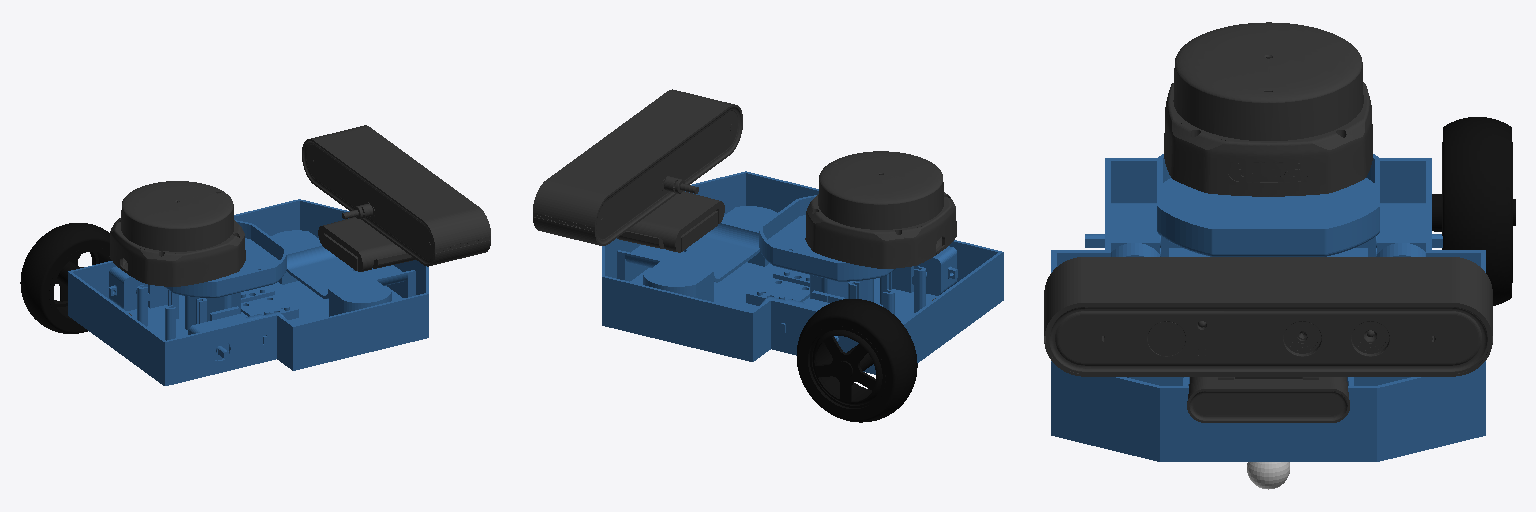
robot.urdf — lidarino:
<?xml version="1.0" ?>
<!-- =================================================================================== -->
<!-- |    This document was autogenerated by xacro from .\lidarino_isaac.urdf.xacro    | -->
<!-- |    EDITING THIS FILE BY HAND IS NOT RECOMMENDED                                 | -->
<!-- =================================================================================== -->
<robot name="lidarino">
  <material name="black">
    <color rgba="0.1 0.1 0.1 1.0"/>
  </material>
  <material name="dark_grey">
    <color rgba="0.25 0.25 0.25 1.0"/>
  </material>
  <material name="matte_orange">
    <color rgba="0.85 0.45 0.15 1.0"/>
  </material>
  <material name="muted_red">
    <color rgba="0.75 0.22 0.17 1.0"/>
  </material>
  <material name="steel_blue">
    <color rgba="0.25 0.45 0.65 1.0"/>
  </material>
  <material name="silver">
    <color rgba="0.75 0.75 0.75 1.0"/>
  </material>
  <link name="base_link">
    <inertial>
      <origin rpy="0.0 0.0 0.0" xyz="-0.0062724127968771535 1.3799035175597654e-08 0.013070827636125267"/>
      <mass value="0.4239314641509377"/>
      <inertia ixx="0.0010482842137546186" ixy="-9.417101996162051e-05" ixz="0.0001129151524043299" iyy="0.0024338106744802982" iyz="-2.234993490616969e-06" izz="0.003184067568059869"/>
    </inertial>
    <visual name="base_link_visual">
      <origin rpy="0.0 0.0 0.0" xyz="0.0 0.0 0.0"/>
      <geometry>
        <mesh filename="package://lidarino_description/urdf/meshes/base_link_s2.stl" scale="0.001 0.001 0.001"/>
      </geometry>
      <material name="steel_blue"/>
    </visual>
    <collision name="base_link_collision">
      <origin rpy="0.0 0.0 0.0" xyz="0.0 0.0 0.021"/>
      <geometry>
        <box size="0.25 0.16 0.042"/>
      </geometry>
    </collision>
  </link>
  <link name="body_lid">
    <inertial>
      <origin rpy="0.0 0.0 0.0" xyz="-0.012951394456098867 -3.147938388524642e-07 0.06881041966340294"/>
      <mass value="0.05261379951215123"/>
      <inertia ixx="0.0001489352862801382" ixy="3.80132469862603e-10" ixz="-6.825968075725163e-07" iyy="0.000229958819591738" iyz="3.2124298873716476e-11" izz="0.00037746798651689653"/>
    </inertial>
    <visual name="body_lid_visual">
      <origin rpy="0.0 0.0 0.0" xyz="0.0 0.0 -0.07"/>
      <geometry>
        <mesh filename="package://lidarino_description/urdf/meshes/bodyLid.stl" scale="0.001 0.001 0.001"/>
      </geometry>
      <material name="steel_blue"/>
    </visual>
    <collision name="body_lid_collision">
      <origin rpy="0.0 0.0 0.0" xyz="-0.024 0.0 -0.005"/>
      <geometry>
        <box size="0.206 0.164 0.014"/>
      </geometry>
    </collision>
  </link>
  <link name="caster">
    <inertial>
      <origin rpy="0.0 0.0 0.0" xyz="0.0 0.0 0.0"/>
      <mass value="0.01"/>
      <inertia ixx="1e-4" ixy="0" ixz="0" iyy="1e-4" iyz="0" izz="1e-4"/>
    </inertial>
    <visual name="caster_visual">
      <origin rpy="0.0 0.0 0.0" xyz="0.0 0.0 0.0"/>
      <geometry>
        <sphere radius="0.008"/>
      </geometry>
      <material name="silver"/>
    </visual>
    <collision name="caster_collision">
      <origin rpy="0.0 0.0 0.0" xyz="0.0 0.0 0.0"/>
      <geometry>
        <sphere radius="0.008"/>
      </geometry>
    </collision>
  </link>
  <link name="wheel_R">
    <inertial>
      <origin rpy="0.0 -0.0 0.0" xyz="3.8589283501977436e-08 3.3503422258718277e-13 -0.017044397508191807"/>
      <mass value="0.0493089812577897"/>
      <inertia ixx="2.1725366580018456e-05" ixy="5.925842498991085e-17" ixz="1.2860682814920879e-11" iyy="2.172573834724608e-05" iyz="1.1233689759665433e-16" izz="3.791921679166611e-05"/>
    </inertial>
    <visual name="wheel_R_visual">
      <origin rpy="-4.72621546065603e-16 -1.1102230246251568e-16 -2.7755575615628926e-17" xyz="1.1368683772161603e-15 1.3322676295501878e-17 0.0"/>
      <geometry>
        <mesh filename="package://lidarino_description/urdf/meshes/wheel_R.stl" scale="0.001 0.001 0.001"/>
      </geometry>
      <material name="black"/>
    </visual>
    <collision name="wheel_R_collision">
      <origin rpy="0 0 0" xyz="0 0 -0.017"/>
      <geometry>
        <cylinder length="0.025" radius="0.035"/>
      </geometry>
    </collision>
  </link>
  <link name="wheel_L">
    <inertial>
      <origin rpy="0.0 -0.0 0.0" xyz="3.8589283501977436e-08 3.3503422258718277e-13 -0.017044397508191828"/>
      <mass value="0.0493089812577897"/>
      <inertia ixx="2.17253665800184e-05" ixy="5.927197751706692e-17" ixz="1.2860682842025933e-11" iyy="2.1725738347246244e-05" iyz="1.1234367386023236e-16" izz="3.7919216791666135e-05"/>
    </inertial>
    <visual name="wheel_L_visual">
      <origin rpy="-1.4649353258190343e-16 -1.2470396389907355e-32 -5.551115123125783e-17" xyz="1.1368683772161603e-15 1.1102230246251566e-17 0.0"/>
      <geometry>
        <mesh filename="package://lidarino_description/urdf/meshes/wheel_L.stl" scale="0.001 0.001 0.001"/>
      </geometry>
      <material name="black"/>
    </visual>
    <collision name="wheel_L_collision">
      <origin rpy="0 0 0" xyz="0 0 -0.017"/>
      <geometry>
        <cylinder length="0.025" radius="0.035"/>
      </geometry>
    </collision>
  </link>
  <joint name="L_wheel_Revolute" type="continuous">
    <origin rpy="1.5707963267948966 -0.0 0.0" xyz="-0.085 0.06 0.015"/>
    <parent link="base_link"/>
    <child link="wheel_L"/>
    <axis xyz="0.0 0.0 -1.0"/>
    <limit effort="10.0" velocity="20.0"/>
    <dynamics damping="10000000.0" friction="0.1"/>
  </joint>
  <joint name="R_wheel_Revolute" type="continuous">
    <origin rpy="-1.5707963267948966 -0.0 0.0" xyz="-0.085 -0.06 0.015"/>
    <parent link="base_link"/>
    <child link="wheel_R"/>
    <axis xyz="0.0 0.0 1.0"/>
    <limit effort="10.0" velocity="20.0"/>
    <dynamics damping="10000000.0" friction="0.1"/>
  </joint>
  <joint name="caster_fixed" type="fixed">
    <origin rpy="0.0 0.0 0.0" xyz="0.077 0.0 -0.013"/>
    <parent link="base_link"/>
    <child link="caster"/>
  </joint>
  <joint name="body_lid_fixed" type="fixed">
    <origin rpy="0.0 0.0 0.0" xyz="0.0 0.0 0.07"/>
    <parent link="base_link"/>
    <child link="body_lid"/>
  </joint>
  <!-- Attrito zero per la caster -->
  <gazebo reference="caster_link">
    <mu1>0.0</mu1>
    <mu2>0.0</mu2>
  </gazebo>
  <!-- Attrito alto per le ruote -->
  <gazebo reference="left_wheel_link">
    <mu1>1.0</mu1>
    <mu2>1.0</mu2>
  </gazebo>
  <gazebo reference="right_wheel_link">
    <mu1>1.0</mu1>
    <mu2>1.0</mu2>
  </gazebo>
  <link name="astra_link">
    <inertial>
      <origin rpy="0.0 0.0 0.0" xyz="0.021745856967737336 3.8230579211581216e-05 0.029303333814809707"/>
      <mass value="0.23334756462839484"/>
      <inertia ixx="0.00045538823905664865" ixy="1.841447020567419e-07" ixz="9.205395041665818e-06" iyy="7.785663760045297e-05" iyz="-4.2054876695014596e-08" izz="0.00045460807011731756"/>
    </inertial>
    <visual name="astracamera_visual">
      <origin rpy="0.0 0.0 0.0" xyz="0.0 0.0 0.0"/>
      <geometry>
        <mesh filename="package://lidarino_description/urdf/meshes/astracamera.stl" scale="0.001 0.001 0.001"/>
      </geometry>
      <material name="dark_grey"/>
    </visual>
    <collision name="astracamera_collision">
      <origin rpy="0.0 0.0 0.0" xyz="0.02 0.0 0.035"/>
      <geometry>
        <box size="0.04 0.15 0.03"/>
        <!-- <mesh filename="${mesh_url}astracamera.stl" scale="0.001 0.001 0.001" /> -->
      </geometry>
    </collision>
  </link>
  <joint name="astra_joint" type="fixed">
    <parent link="base_link"/>
    <child link="astra_link"/>
    <origin rpy="0 0 3.141592653589793" xyz="0.120 0.0 0.025"/>
  </joint>
  <link name="astra_optical_frame"/>
  <joint name="astra_optical_joint" type="fixed">
    <parent link="astra_link"/>
    <child link="astra_optical_frame"/>
    <origin rpy="0 0 3.141592653589793" xyz="0 0 0.032"/>
  </joint>
  <link name="rplidars2_link">
    <inertial>
      <origin rpy="0.0 0.0 0.0" xyz="-4.876953214253547e-05 6.129273590973731e-06 0.015121950727028356"/>
      <mass value="0.2610121235316497"/>
      <inertia ixx="0.00018781372994948866" ixy="1.2883857858081062e-08" ixz="4.40529556879255e-07" iyy="0.0001855239755116742" iyz="-2.488761129977374e-09" izz="0.0002891065425456664"/>
    </inertial>
    <visual name="lidar_visual">
      <origin rpy="0.0 0.0 0.0" xyz="0.0 0.0 0.0"/>
      <geometry>
        <mesh filename="package://lidarino_description/urdf/meshes/RPLIDARS2.stl" scale="0.001 0.001 0.001"/>
      </geometry>
      <material name="dark_grey"/>
    </visual>
    <collision name="lidar_collision">
      <origin rpy="0.0 0.0 0.0" xyz="0.0 0.0 0.03"/>
      <geometry>
        <cylinder length="0.02" radius="0.035"/>
        <!-- <mesh filename="${mesh_url}RPLIDARS2.stl" scale="0.001 0.001 0.001" /> -->
      </geometry>
    </collision>
  </link>
  <joint name="rplidars2_joint" type="fixed">
    <parent link="base_link"/>
    <child link="rplidars2_link"/>
    <origin rpy="0 0 0" xyz="-0.056 0.0 0.053"/>
  </joint>
  <link name="rplidars2_laser_link"/>
  <joint name="rplidars2_laser_joint" type="fixed">
    <parent link="rplidars2_link"/>
    <child link="rplidars2_laser_link"/>
    <origin rpy="0.0 0.0 0.0" xyz="0.0 0.0 0.03"/>
  </joint>
  <link name="imu_link">
    <inertial>
      <!-- IMU reale tipica: pochi grammi, trascurabile dal punto di vista
                     inerziale ma serve comunque un inertial valido per KDL/ros2_control -->
      <origin rpy="0 0 0" xyz="0 0 0"/>
      <mass value="0.01"/>
      <inertia ixx="1e-4" ixy="0.0" ixz="0.0" iyy="1e-4" iyz="0.0" izz="1e-4"/>
    </inertial>
    <visual name="imu_visual">
      <origin rpy="0 0 0" xyz="0 0 0"/>
      <geometry>
        <box size="0.005 0.005 0.005"/>
      </geometry>
      <material name="dark_grey"/>
    </visual>
    <collision name="imu_collision">
      <origin rpy="0 0 0" xyz="0 0 0"/>
      <geometry>
        <box size="0.005 0.005 0.005"/>
      </geometry>
    </collision>
  </link>
  <joint name="imu_joint" type="fixed">
    <parent link="base_link"/>
    <child link="imu_link"/>
    <origin rpy="0 0 0" xyz="-0.092 0.0 0.02"/>
  </joint>
  <!-- 
         =========================================================
         ESCLUSI APPOSITAMENTE PER ISAAC SIM:
         <xacro:include filename="lidarino_gazebo.xacro" />
         <xacro:include filename="lidarino_ros2_control.xacro" />
         =========================================================
         Motivo: Isaac Sim ignora i plugin Gazebo e gestirà i 
         motori e l'odometria tramite OmniGraph (Differential Controller).
    -->
</robot>

--- Render facts (derived) ---
Views: 3 orthographic renders of the robot side by side, from view 1: azimuth 30°, elevation 25°; view 2: azimuth 150°, elevation 25°; view 3: azimuth 270°, elevation 25°.
Model lidarino with 10 links and 9 joints (2 continuous, 7 fixed), rooted at base_link, posed every joint at zero.
Visible links, largest first — view 1: base_link, astra_link, rplidars2_link, wheel_L; view 2: base_link, astra_link, rplidars2_link, wheel_L; view 3: astra_link, base_link, rplidars2_link, wheel_L, caster.
Link boxes in pixels (bbox=[...]): base_link: bbox=[68, 199, 428, 385]; astra_link: bbox=[302, 125, 490, 271]; rplidars2_link: bbox=[109, 181, 245, 286]; wheel_L: bbox=[20, 223, 111, 333]; base_link: bbox=[602, 171, 1003, 374]; astra_link: bbox=[533, 89, 742, 252]; rplidars2_link: bbox=[805, 151, 956, 268]; wheel_L: bbox=[797, 299, 917, 422]; astra_link: bbox=[1044, 257, 1492, 422]; base_link: bbox=[1051, 154, 1485, 461]; rplidars2_link: bbox=[1164, 22, 1372, 196]; wheel_L: bbox=[1432, 117, 1515, 305]; caster: bbox=[1247, 462, 1289, 489].
Size in the robot's own frame: 0.2402 by 0.1732 by 0.1127 metres.
Meshes: 6 distinct files referenced, 4 mesh visuals loaded (4 binary STL); not drawn: 2 (file found but could not be loaded).
